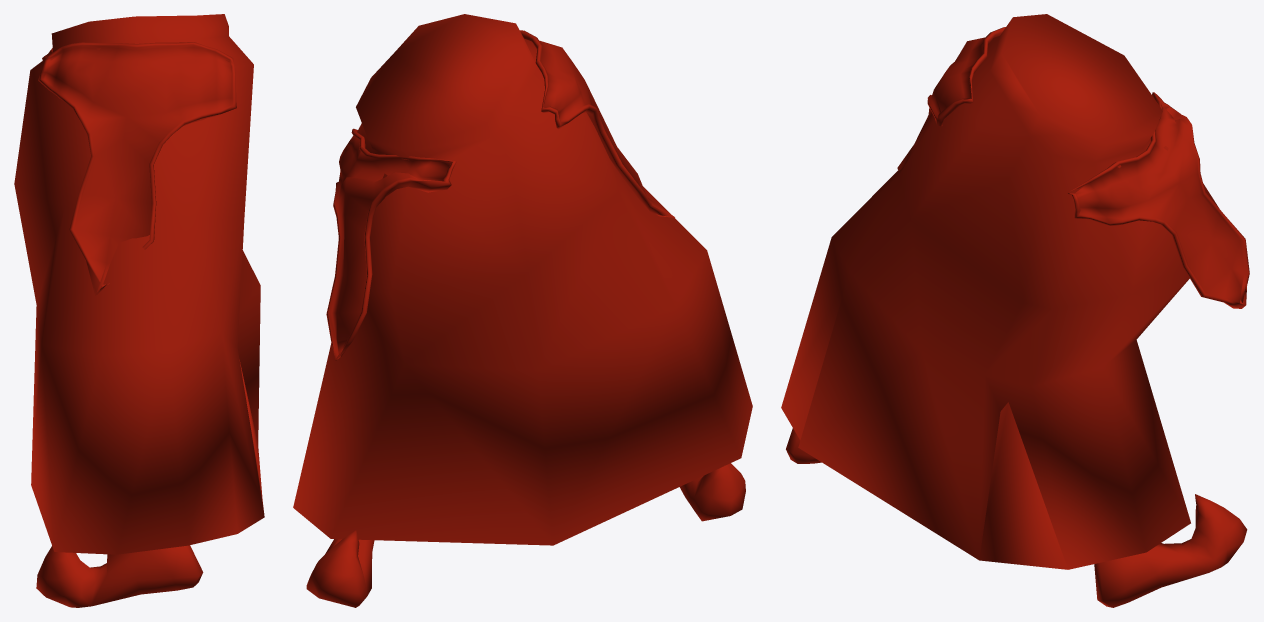
File: bot_000046.obj
3 renders of one model, left to right at view 1: azimuth 30°, elevation 25°; view 2: azimuth 150°, elevation 25°; view 3: azimuth 270°, elevation 25°, orthographic. The views are drawn at different scales.
Visible parts, largest first — view 1: LowPoly_Warlock.004_Plane.004; view 2: LowPoly_Warlock.004_Plane.004; view 3: LowPoly_Warlock.004_Plane.004.
Boxes of the visible parts, x1,y1,x2,y2 form: LowPoly_Warlock.004_Plane.004: (14,14,264,607); LowPoly_Warlock.004_Plane.004: (293,14,752,607); LowPoly_Warlock.004_Plane.004: (781,14,1249,607).
Bounding box in the file's own units: 0.6779 × 1.13 × 0.8998.
